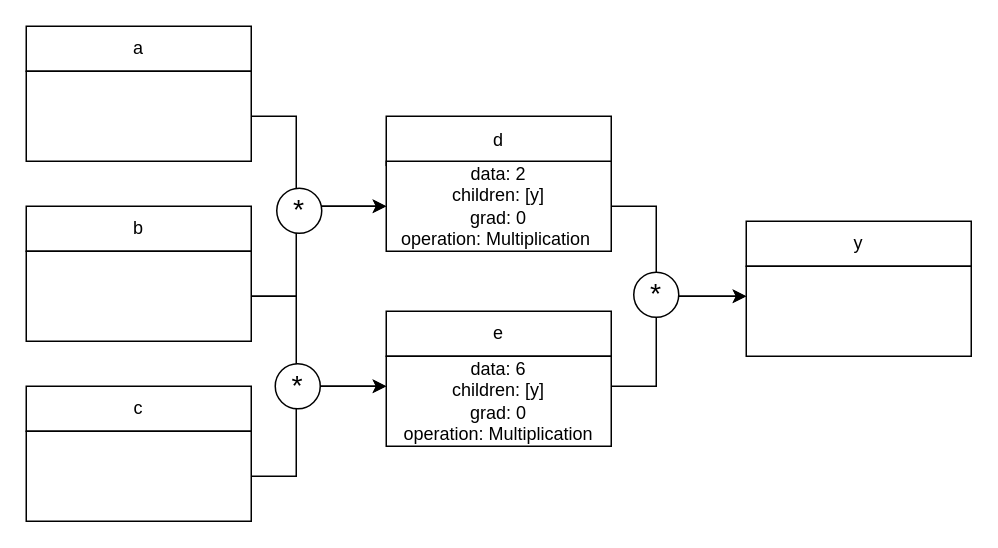
Some shapes in this 998 by 548 pixel diagram are drawn without their labels. The shapes that lost their labels are listed below. From the top down, each one's centre as x and y in pixels, then its label:
[138,115]: data: 1 children: [e] grad: 0 operation: None
[138,295]: data: 2 children: [e, f] grad: 0 operation: None
[858,310]: data: 12 children: [] grad: 0 operation: Multiplication
[138,475]: data: 3 children: [f] grad: 0 operation: None
